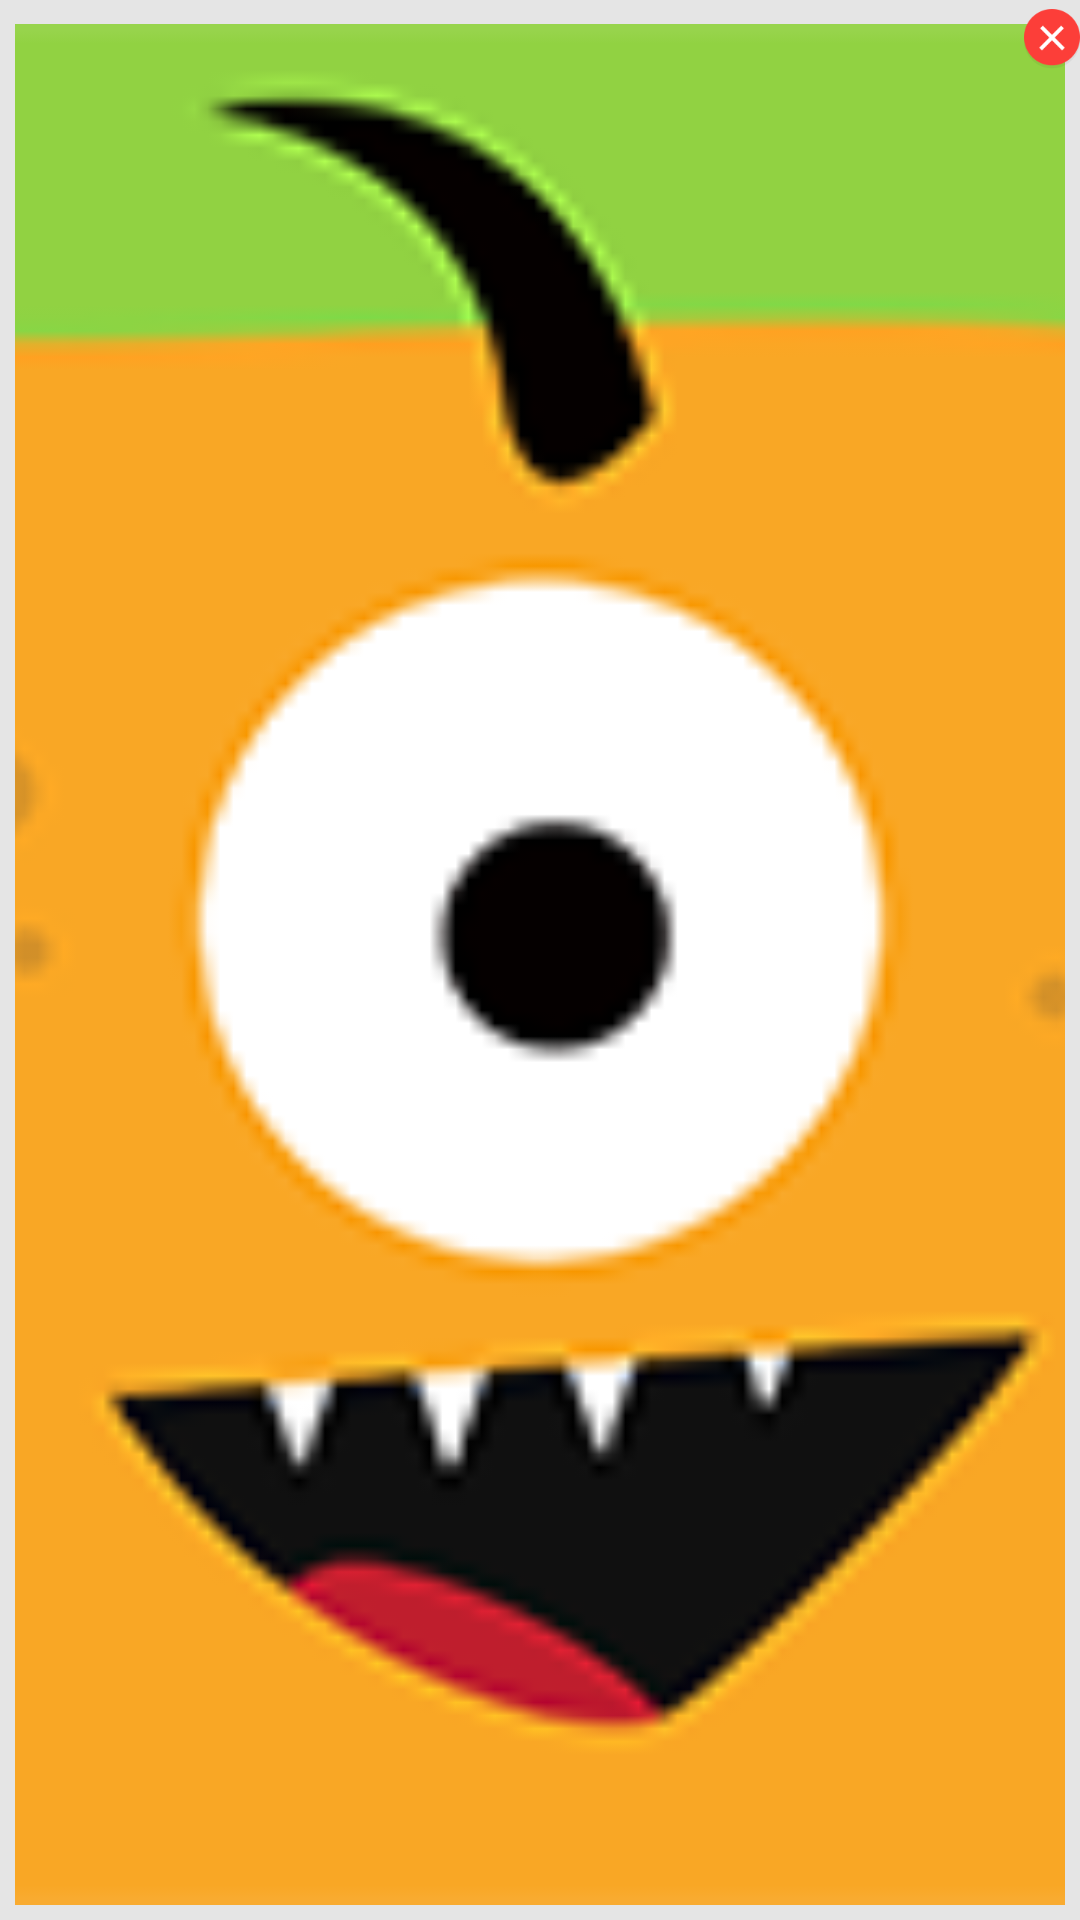

Icons on this 1080px x 1920px Android screen, each with the point to tap as point (x, y):
del: point (1052, 39)
